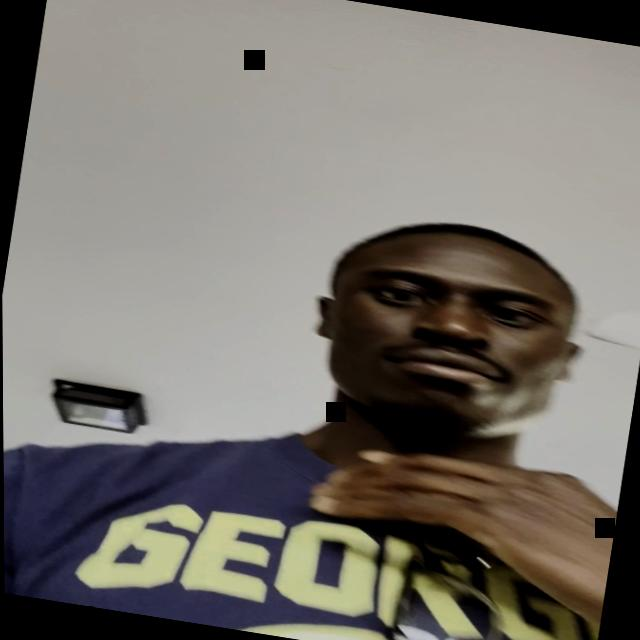NO-Mask: (298, 212, 596, 474)
